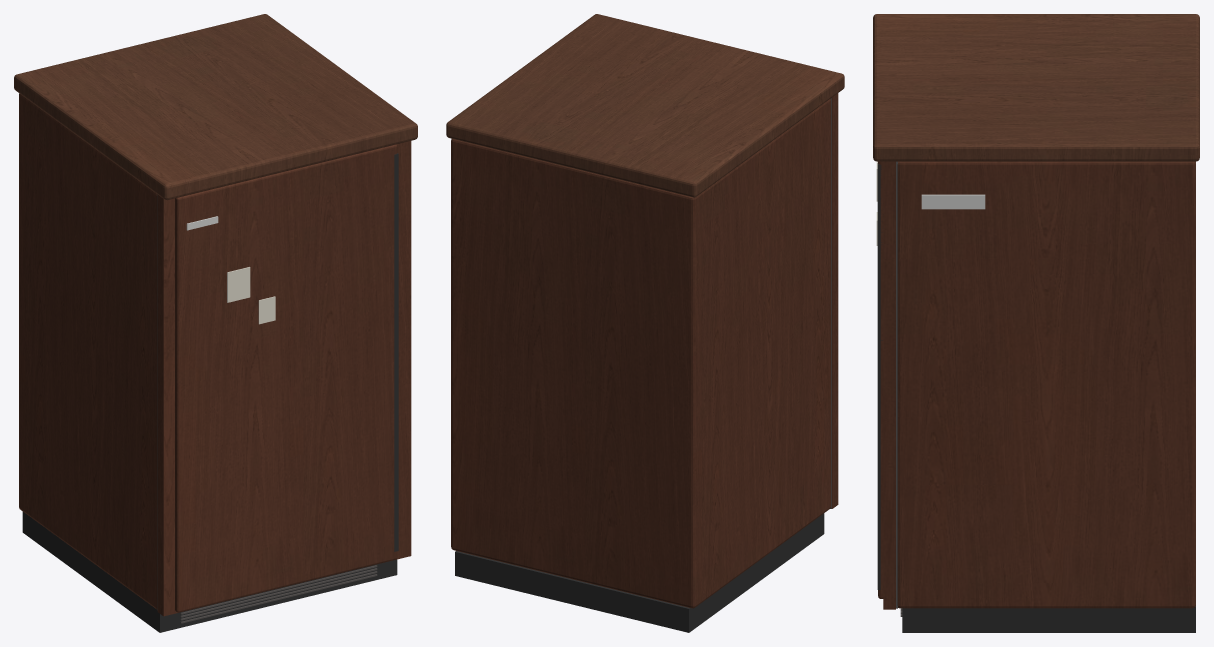
Rendered from mini_fridge.glb.
3 renders of one model, left to right at view 1: azimuth 30°, elevation 25°; view 2: azimuth 150°, elevation 25°; view 3: azimuth 270°, elevation 25°, orthographic. The views are drawn at different scales.
Visible parts, largest first — view 1: mini_fridge; view 2: mini_fridge; view 3: mini_fridge.
Boxes of the visible parts, x1,y1,x2,y2 form: mini_fridge: (14,14,417,632); mini_fridge: (446,14,844,632); mini_fridge: (873,14,1199,632).
Bounding box in the file's own units: 0.492 × 0.85 × 0.512.
6 materials, 2 textured.
